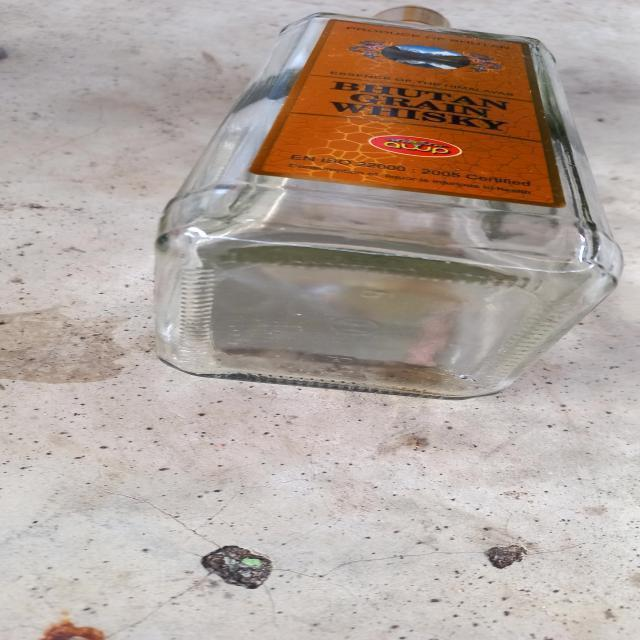Glass: (155, 4, 626, 399)
